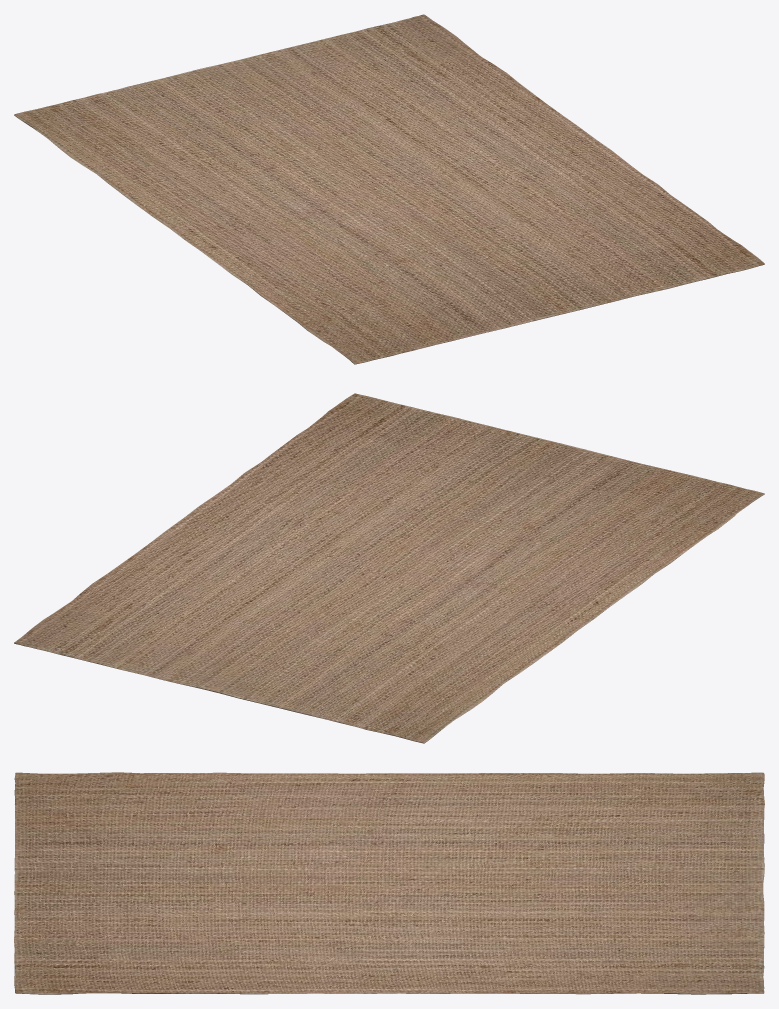
Rendered from 32 - STRÖG Rug, flatwoven - natural 155x220 cm.glb.
The picture shows the model from 3 angles, top to bottom: view 1: azimuth 30°, elevation 25°; view 2: azimuth 150°, elevation 25°; view 3: azimuth 270°, elevation 25°; orthographic projection. The views are drawn at different scales.
Parts seen in each view (by area): view 1: G-70527051-STRÃ–G; view 2: G-70527051-STRÃ–G; view 3: G-70527051-STRÃ–G.
Part boxes in pixels (x1,y1,x2,y2): G-70527051-STRÃ–G: (14,14,764,364); G-70527051-STRÃ–G: (14,393,764,743); G-70527051-STRÃ–G: (14,772,764,994).
Bounding box in the file's own units: 1.55 × 0.00529 × 2.22.
Materials: 1 (1 with a texture image).
